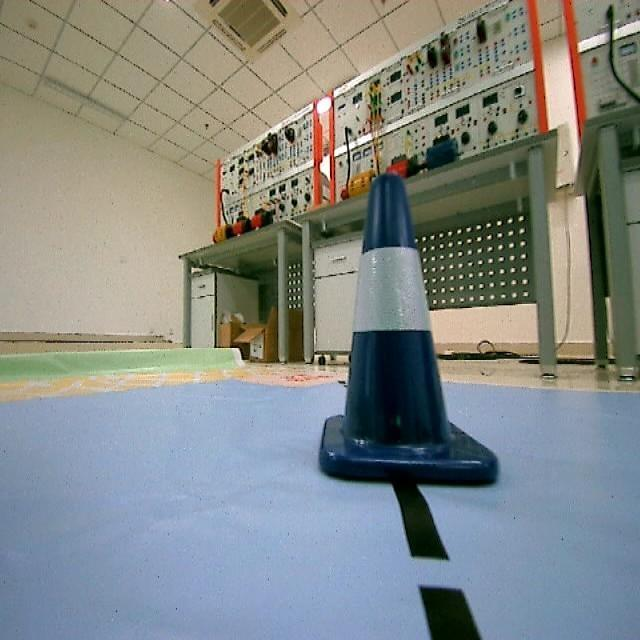obstacle: (302, 166, 511, 501)
